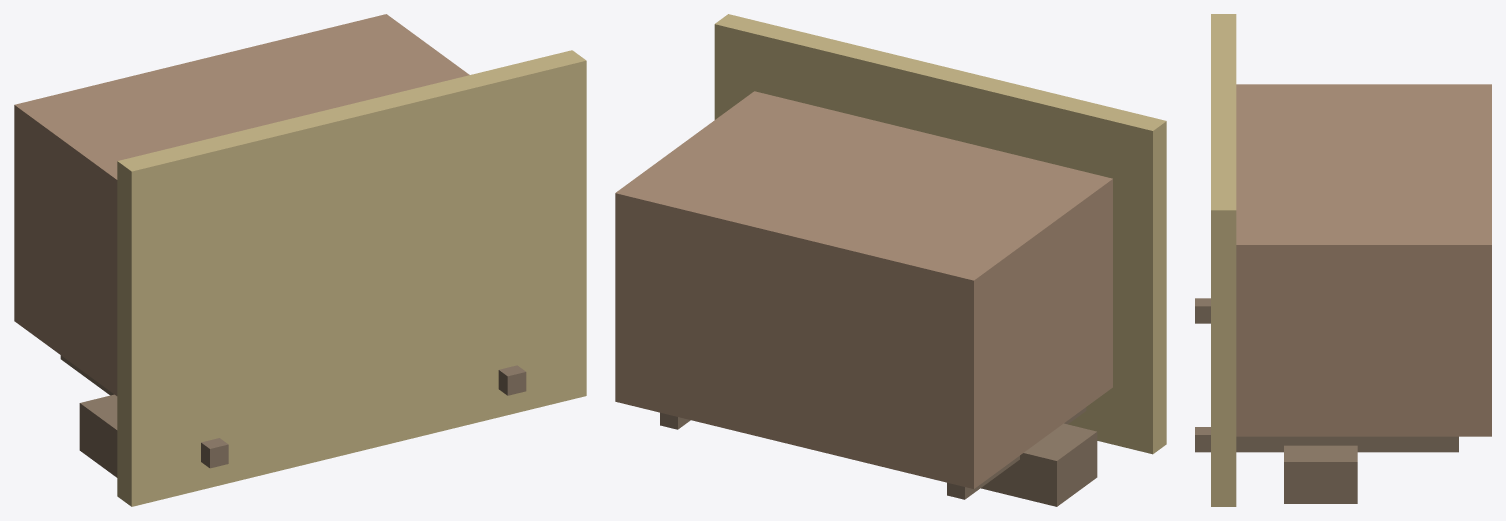
File: market-kiosk-high.glb
The picture shows the model from 3 angles, left to right: view 1: azimuth 30°, elevation 25°; view 2: azimuth 150°, elevation 25°; view 3: azimuth 270°, elevation 25°; orthographic projection. The views are drawn at different scales.
Parts seen in each view (by area): view 1: roof, body, counter, post--0.72, post-0.72; view 2: body, roof, counter, post--0.72; view 3: body, roof, counter, post-0.72, post--0.72.
Boxes of the visible parts, box(x1,y1,x2,y2) form: roof: box(117, 50, 586, 506); body: box(14, 14, 469, 395); counter: box(79, 394, 117, 477); post--0.72: box(60, 355, 228, 468); post-0.72: box(498, 365, 526, 395); body: box(615, 91, 1112, 488); roof: box(714, 14, 1166, 454); counter: box(981, 423, 1097, 506); post--0.72: box(947, 407, 1086, 499); body: box(1236, 84, 1491, 436); roof: box(1211, 14, 1236, 506); counter: box(1284, 445, 1357, 503); post-0.72: box(1195, 427, 1458, 452); post--0.72: box(1195, 298, 1210, 323).
Bounding box in the file's own units: 2.2 × 1.6 × 1.41.
